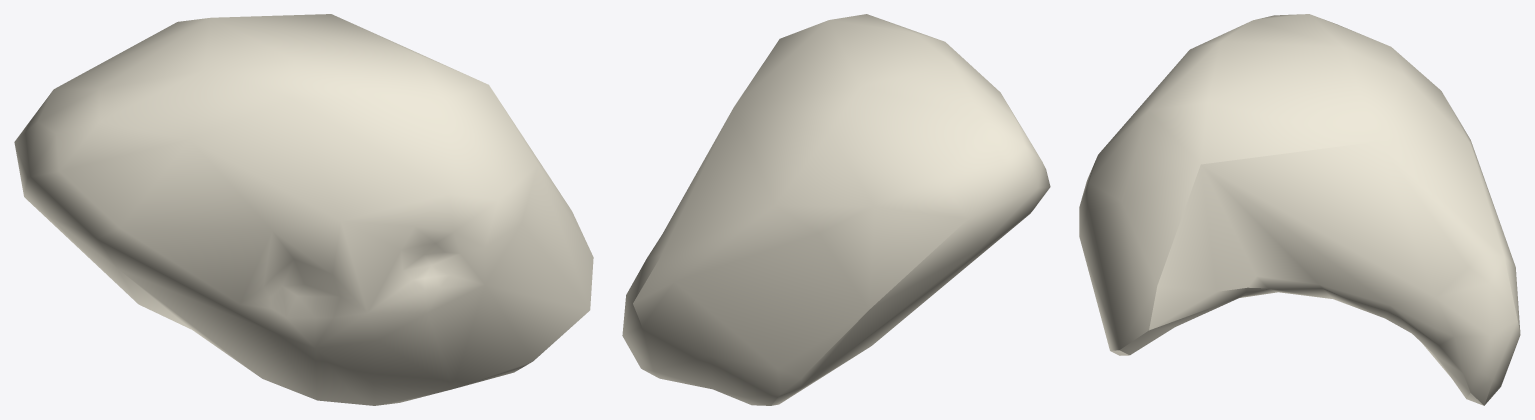
File: fma24438_fj3268.glb
3 renders of one model, left to right at view 1: azimuth 30°, elevation 25°; view 2: azimuth 150°, elevation 25°; view 3: azimuth 270°, elevation 25°, orthographic. The views are drawn at different scales.
Visible parts, largest first — view 1: FMA24438_FJ3268; view 2: FMA24438_FJ3268; view 3: FMA24438_FJ3268.
Part boxes in pixels (bbox=[...]): FMA24438_FJ3268: bbox=[14, 14, 593, 405]; FMA24438_FJ3268: bbox=[622, 14, 1050, 405]; FMA24438_FJ3268: bbox=[1079, 14, 1520, 405].
Size of the model in its own units: 0.0165 by 0.0127 by 0.0165.
